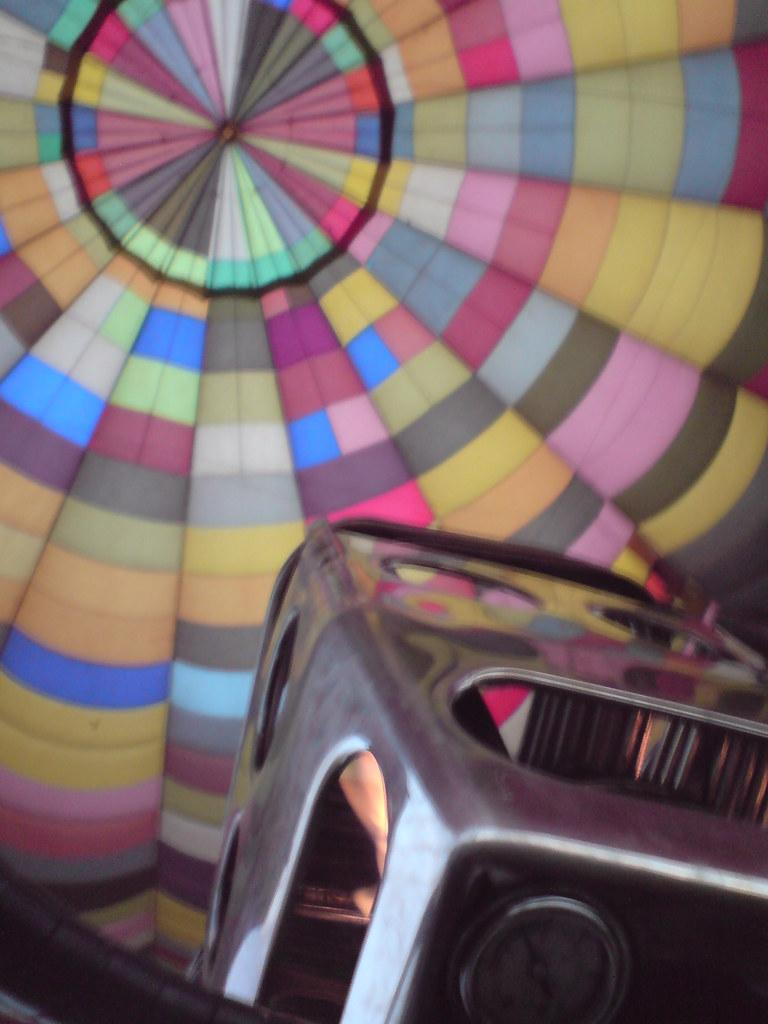balloon: (1, 1, 767, 1022)
